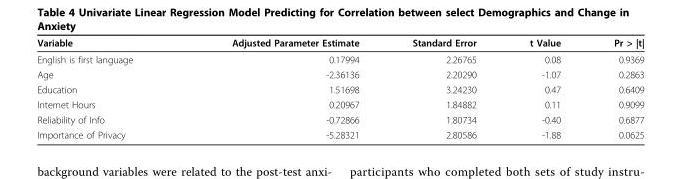table: (36, 36, 643, 140)
table column: (181, 36, 385, 140), (36, 36, 181, 140), (385, 36, 502, 140), (502, 36, 586, 140), (586, 36, 643, 140)
table column header: (36, 36, 643, 50)
table row: (36, 50, 643, 66), (36, 66, 643, 81), (36, 81, 643, 96), (36, 96, 643, 111), (36, 111, 643, 126), (36, 36, 643, 50), (36, 126, 643, 140)
